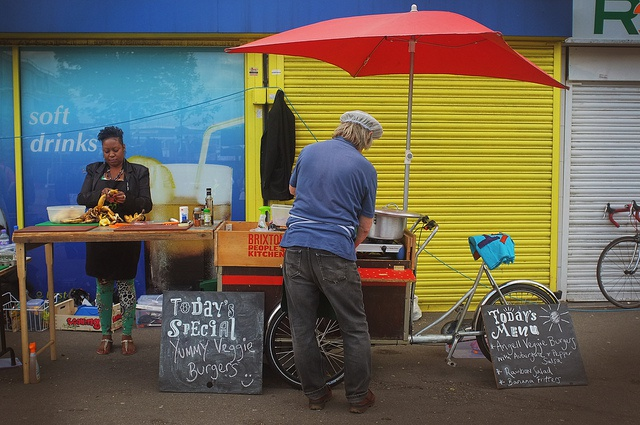non-vehicle: (264, 262, 563, 392), (594, 198, 640, 309)
